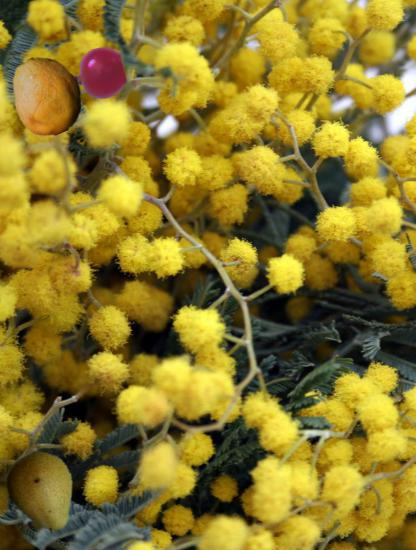Papaya: (6, 55, 87, 136)
Pear: (1, 451, 86, 536)
Redcurrant: (74, 48, 126, 100)
